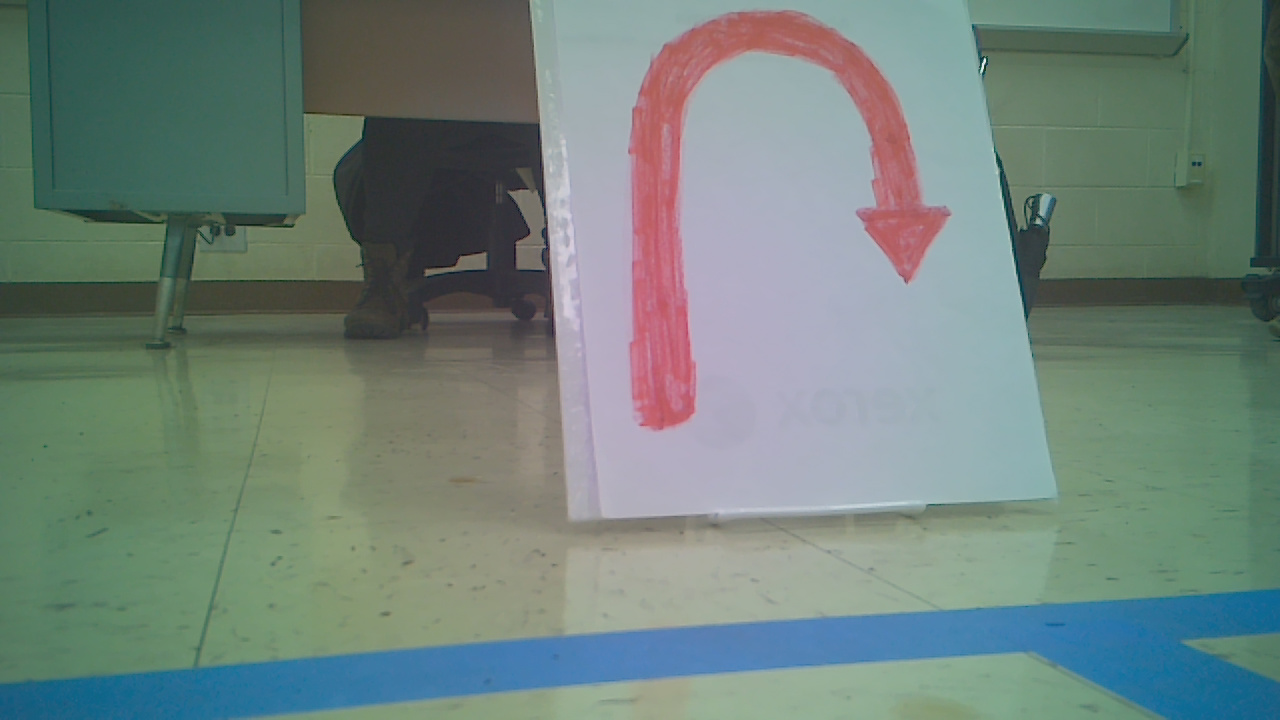uturn: (616, 13, 961, 437)
